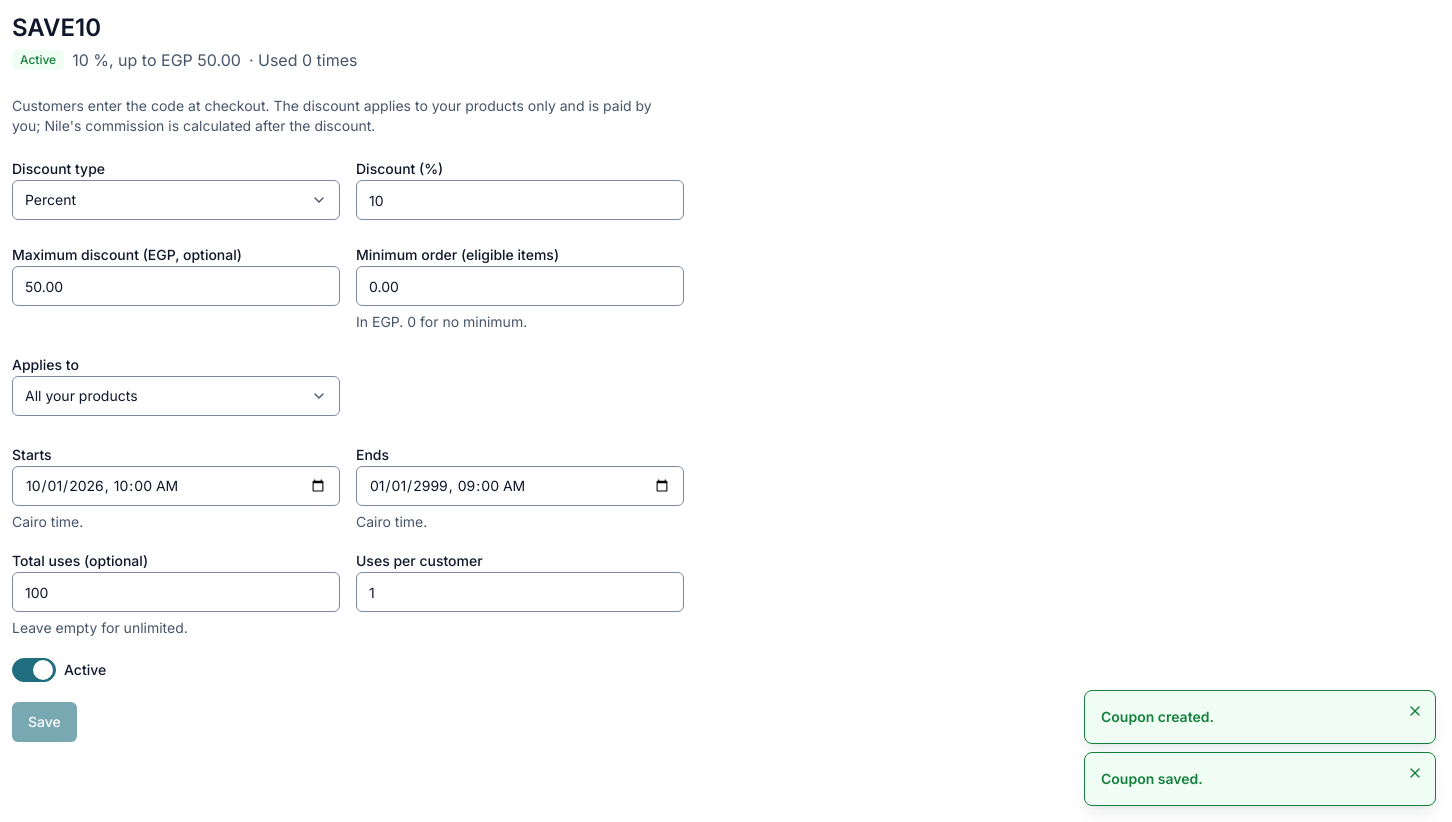
it: coupon page (spec 02 SE-23) › COUPON_LOCKED: reads the coupon again and explains
Replace the text in the number field labelled "Uses per customer" with "2": point(520, 592) [356, 572, 684, 612]
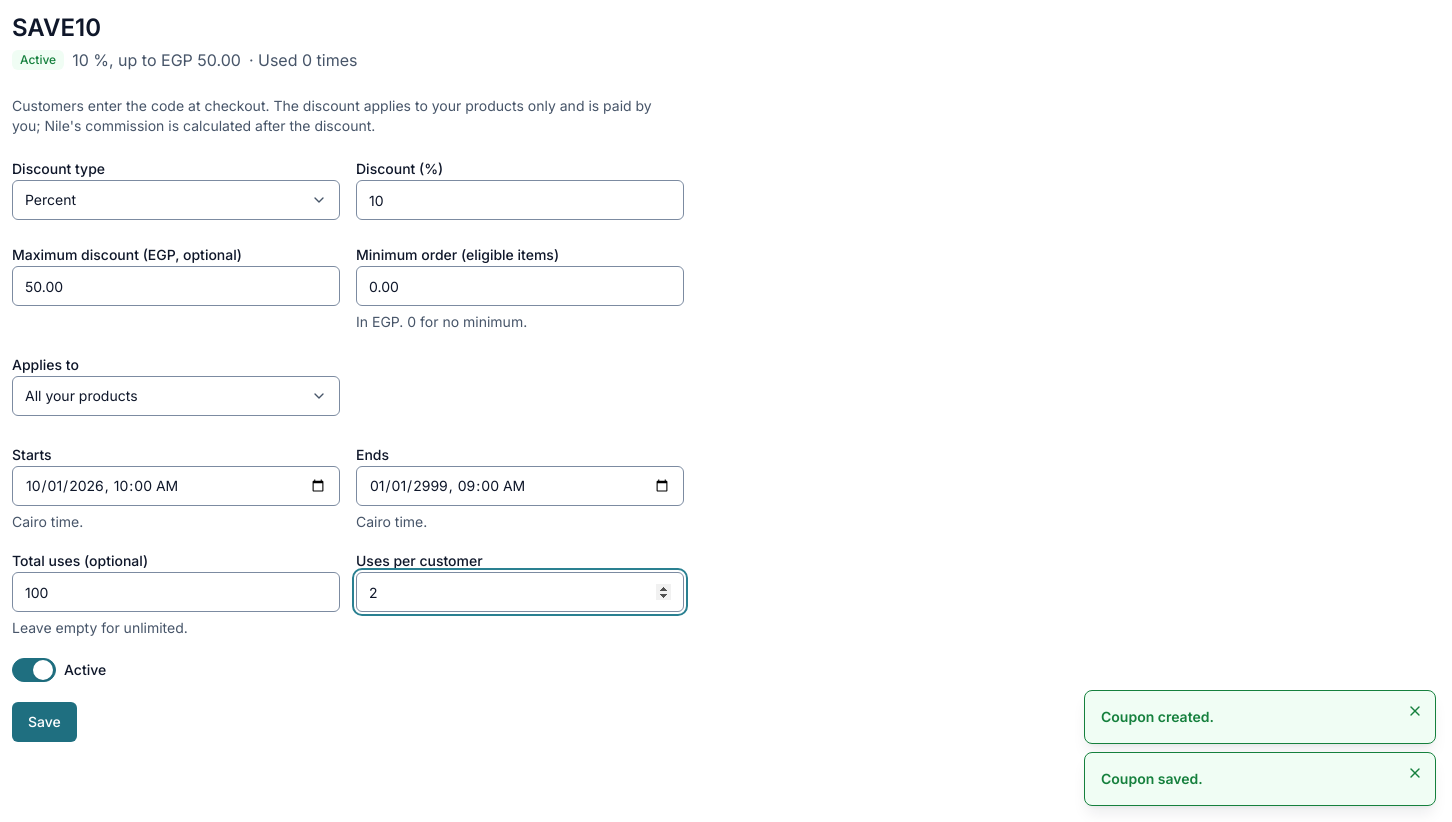
expect the button "Save" is enabled: met
Click the button "Save": point(44, 722) [12, 702, 77, 742]
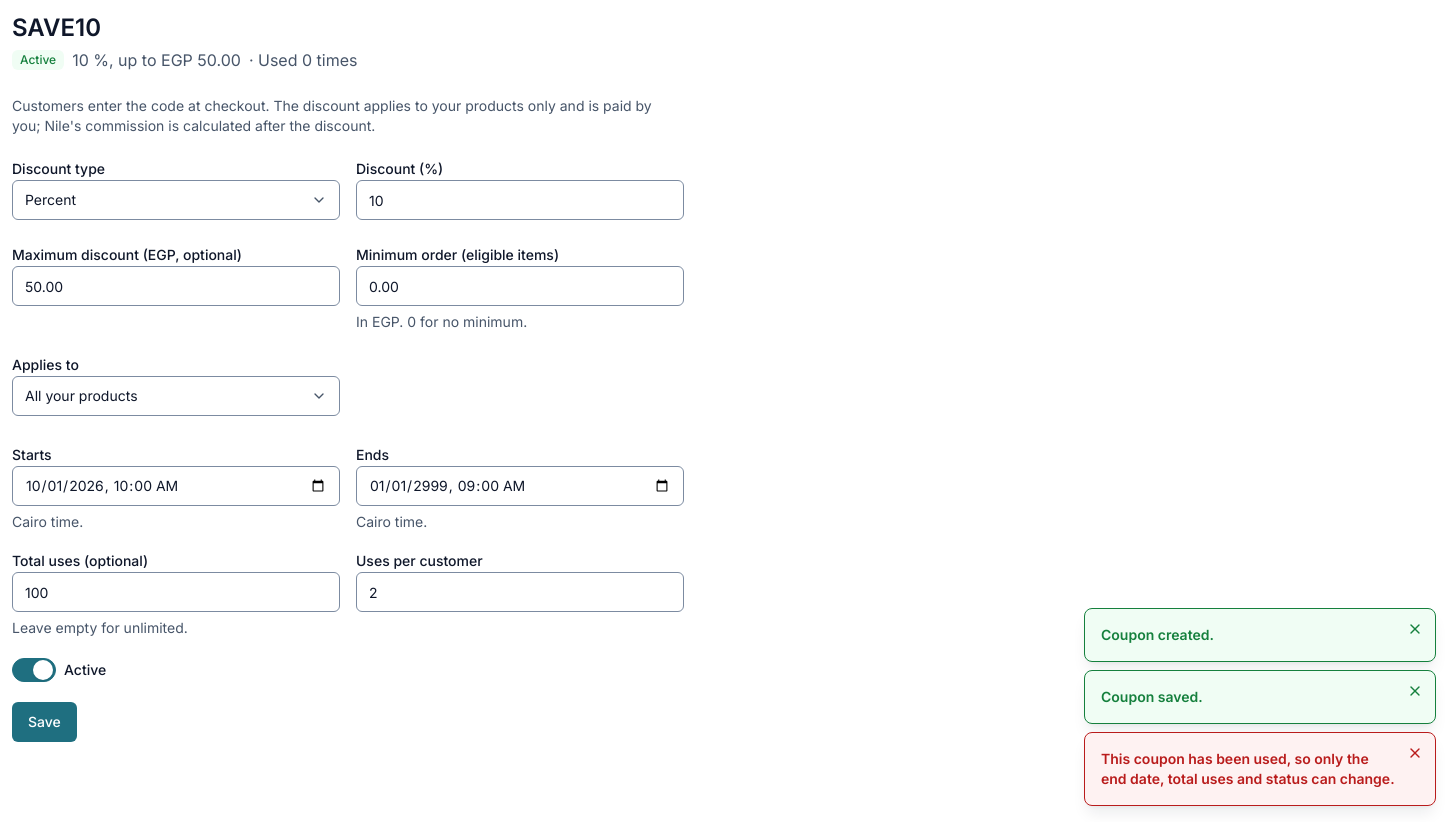
expect the text "This coupon has been used, so only the end date, total uses and status can change." is shown: met, box [1101, 750, 1395, 787]
